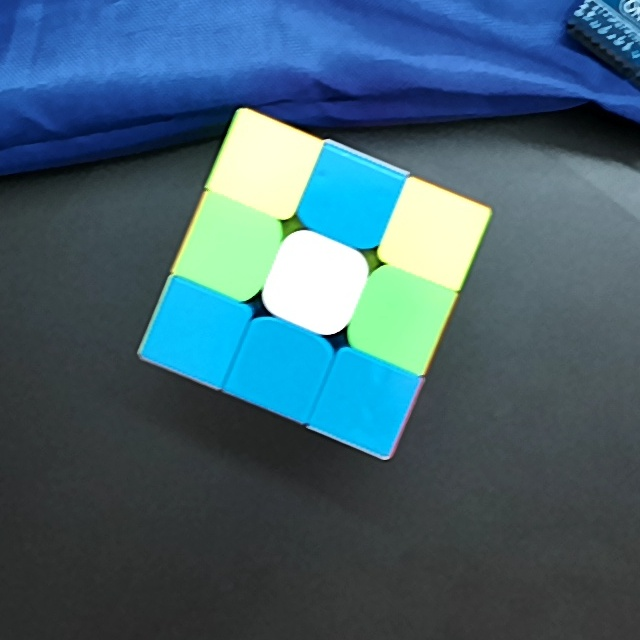tile: (283, 250, 348, 314), (246, 334, 311, 398), (334, 370, 397, 433), (165, 301, 229, 363), (401, 204, 466, 265), (367, 287, 432, 348), (319, 170, 382, 232), (201, 219, 263, 279), (234, 139, 294, 198)
